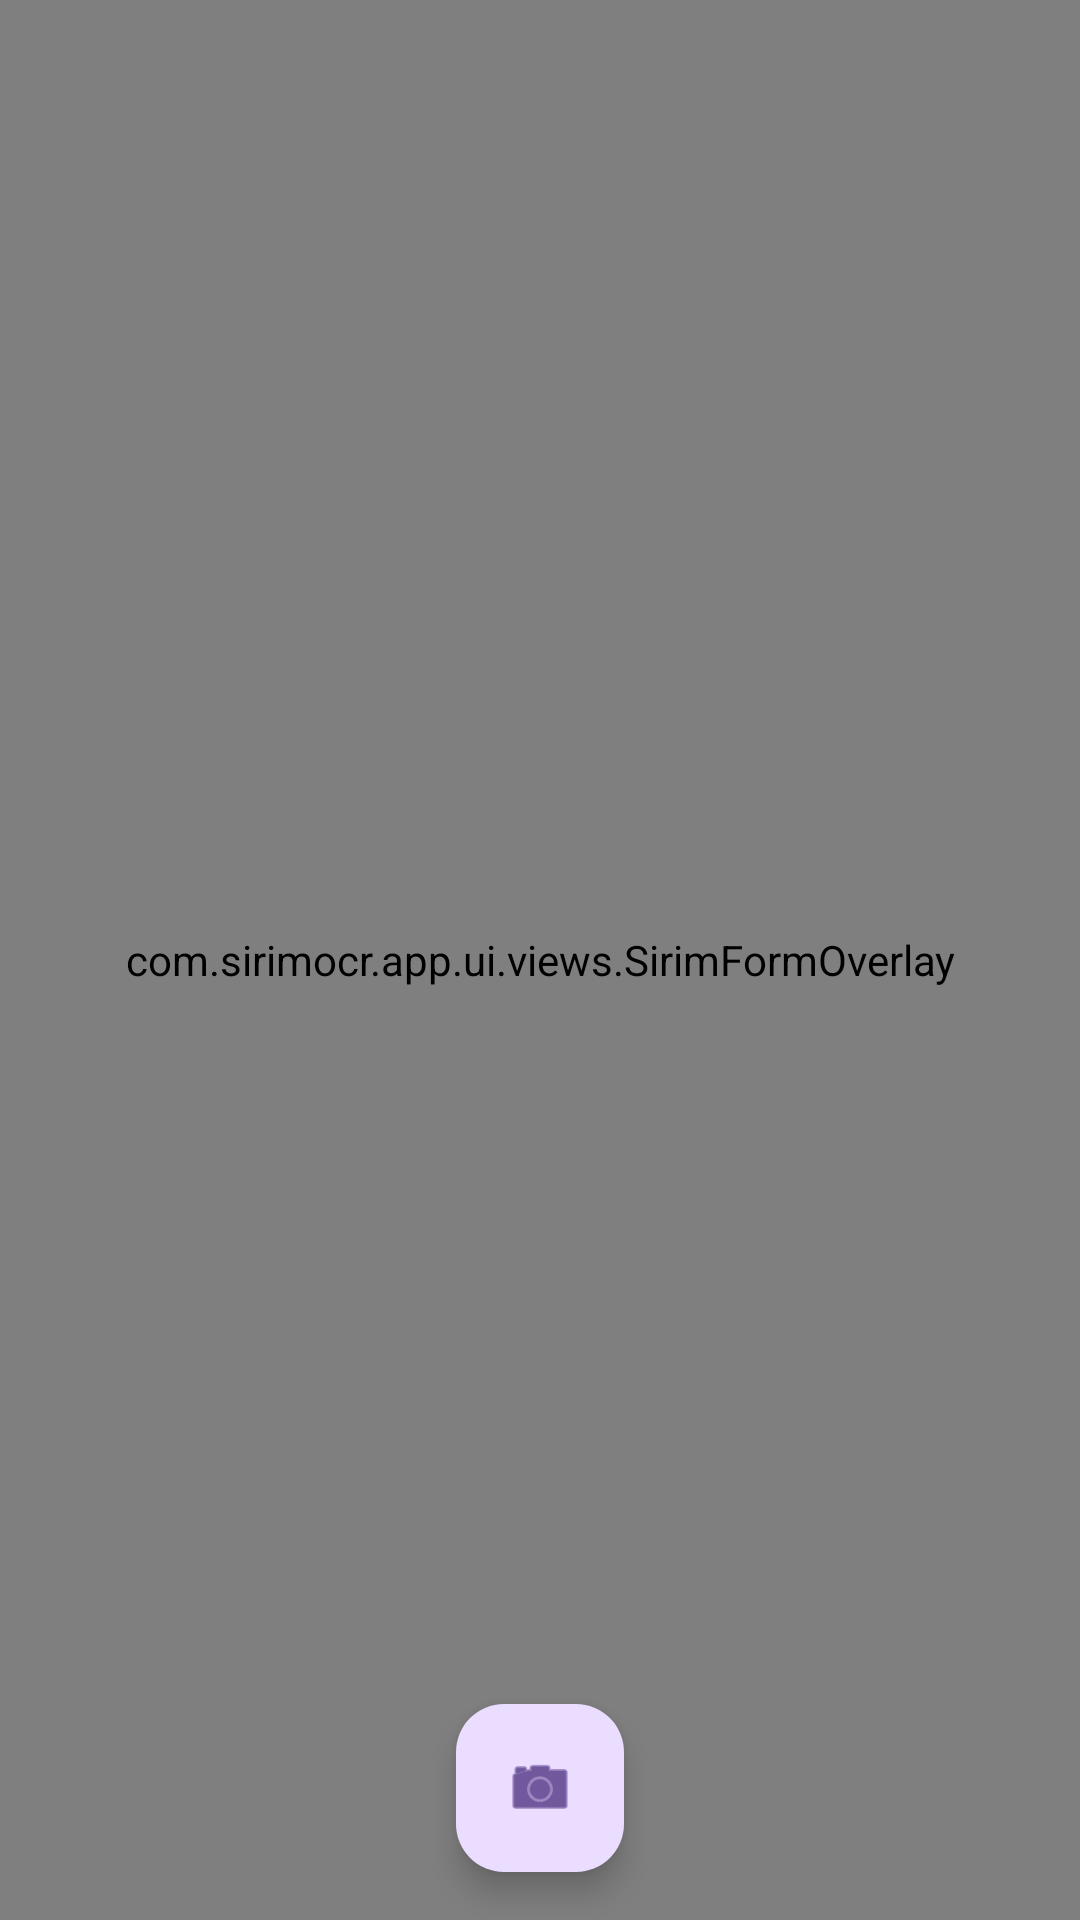

Where icons sit on this 1080w x 1920h app screen, as (x1, y1, x2, y2):
Capture: (456, 1704, 624, 1872)
